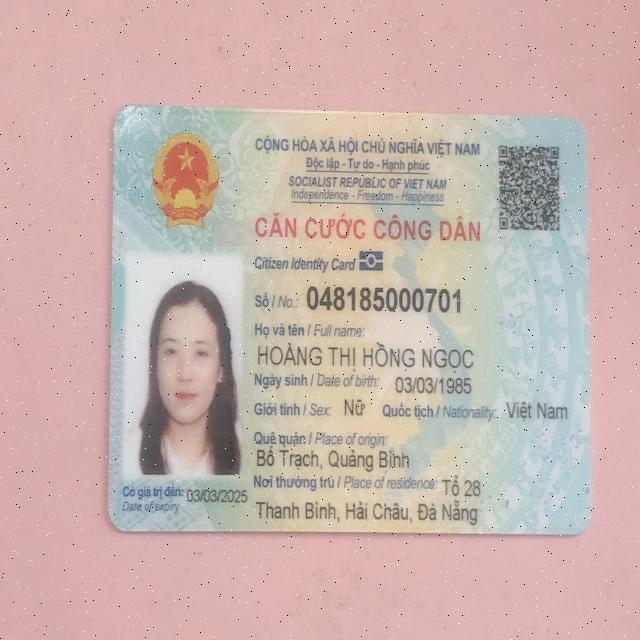current_place: (255, 495, 478, 528), (439, 473, 480, 499)
dob: (388, 369, 474, 396)
expire_date: (183, 482, 247, 504)
gender: (343, 394, 370, 419)
id: (304, 281, 465, 319)
name: (253, 334, 492, 375)
nationality: (503, 394, 572, 428)
origin_place: (257, 443, 409, 472)
